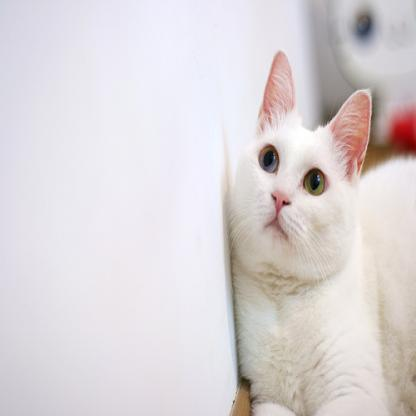cat: (229, 51, 403, 415)
